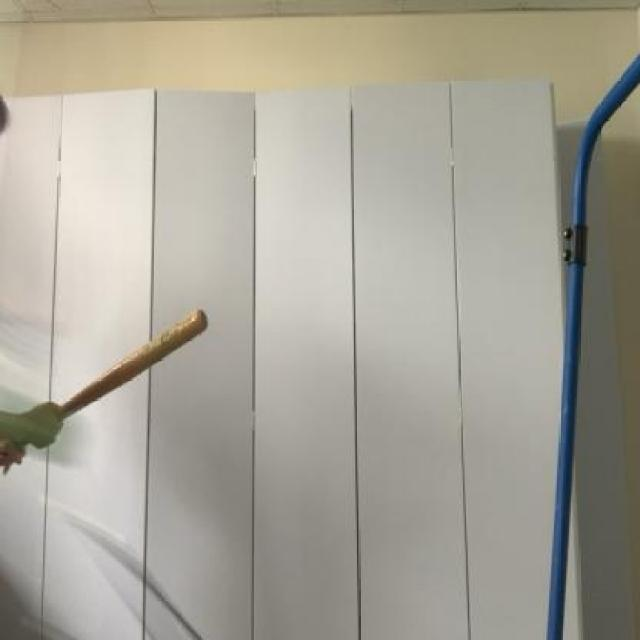baseball: (1, 375, 85, 463)
